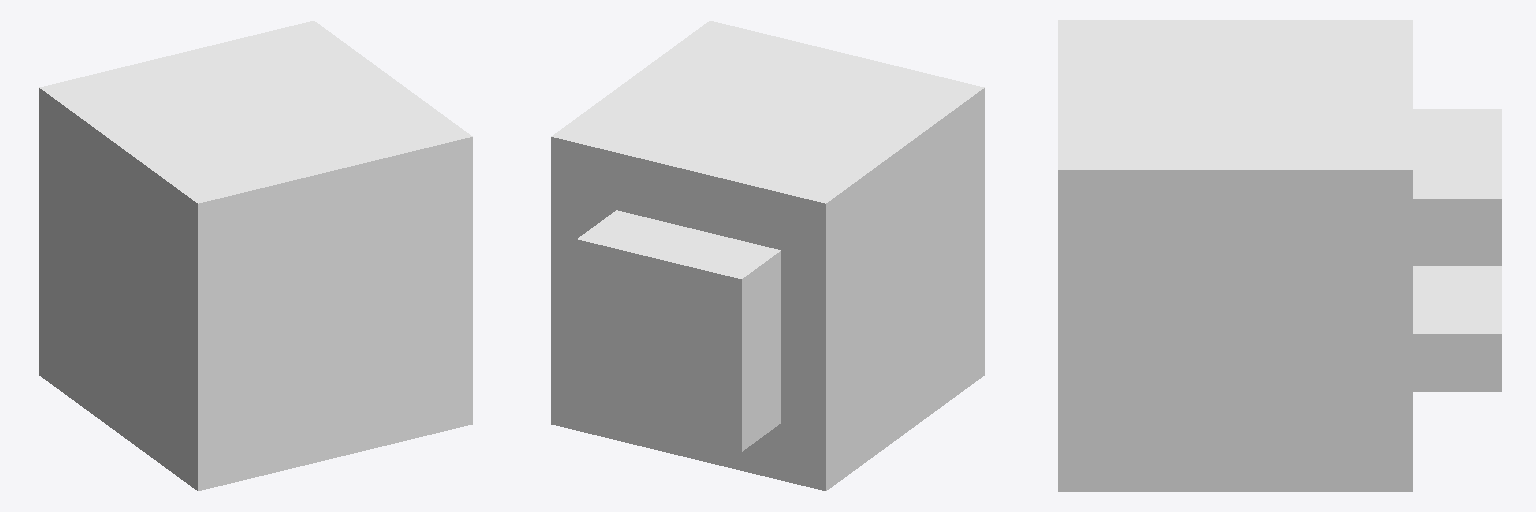
The robot description file, URDF, robot "U_cube_cap":
<?xml version="1.0" ?>
<robot name="U_cube_cap">
  <link name="baseLink">
    <contact>
    	<friction_anchor/>
    	   <lateral_friction value="1.0"/>
    </contact>
    <inertial>
      <origin rpy="0 0 0" xyz="0 0 0"/>
       <!-- mass controls penetration -->
       <mass value=".5"/>
       <inertia ixx="1e-4" ixy="0" ixz="0" iyy="1e-4" iyz="0" izz="1e-4"/>
    </inertial>
    <visual>
      <origin rpy="0 0 0" xyz="0 0 0"/>
      <geometry>
        <mesh filename="U_cube_cap.obj"/>
      </geometry>
       <material name="white">
        <color rgba="1 1 1 1"/>
      </material>
    </visual>
    <collision>
      <origin rpy="0 0 0" xyz="0 0 0"/>
      <geometry>
        <mesh filename="U_cube_cap.obj"/>
      </geometry>
    </collision>
  </link>
</robot>

--- What the picture shows (computed from the rendered views, not written in the file) ---
3 views of the same robot in one strip: view 1: azimuth 30°, elevation 25°; view 2: azimuth 150°, elevation 25°; view 3: azimuth 270°, elevation 25° (orthographic).
Model U_cube_cap with 1 links and 0 joints (none), rooted at baseLink, posed all joints at 0.
Links seen in each view (by area): view 1: baseLink; view 2: baseLink; view 3: baseLink.
Boxes of the visible links, x1,y1,x2,y2 form: baseLink: (39, 21, 472, 490); baseLink: (551, 21, 984, 490); baseLink: (1058, 20, 1501, 491).
Bounding box of the posed robot: 0.08 × 0.1 × 0.08 m (x, y, z).
Meshes: 1 distinct files referenced, 1 mesh visuals loaded (1 OBJ).